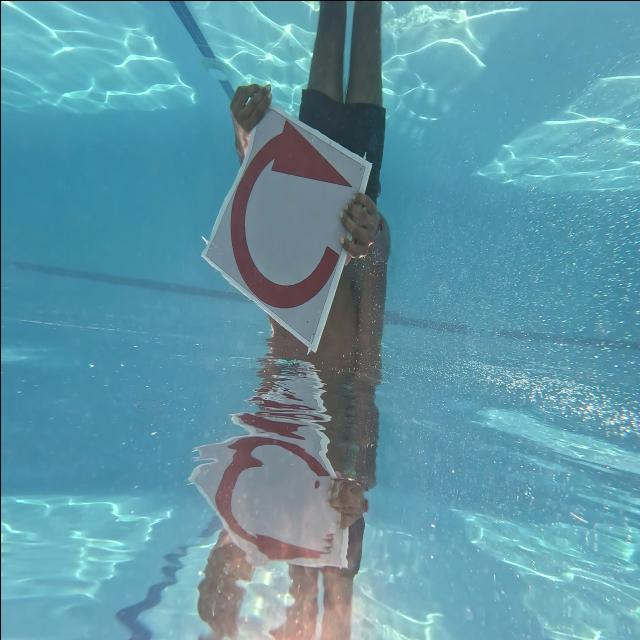red_side: (240, 110, 366, 342)
